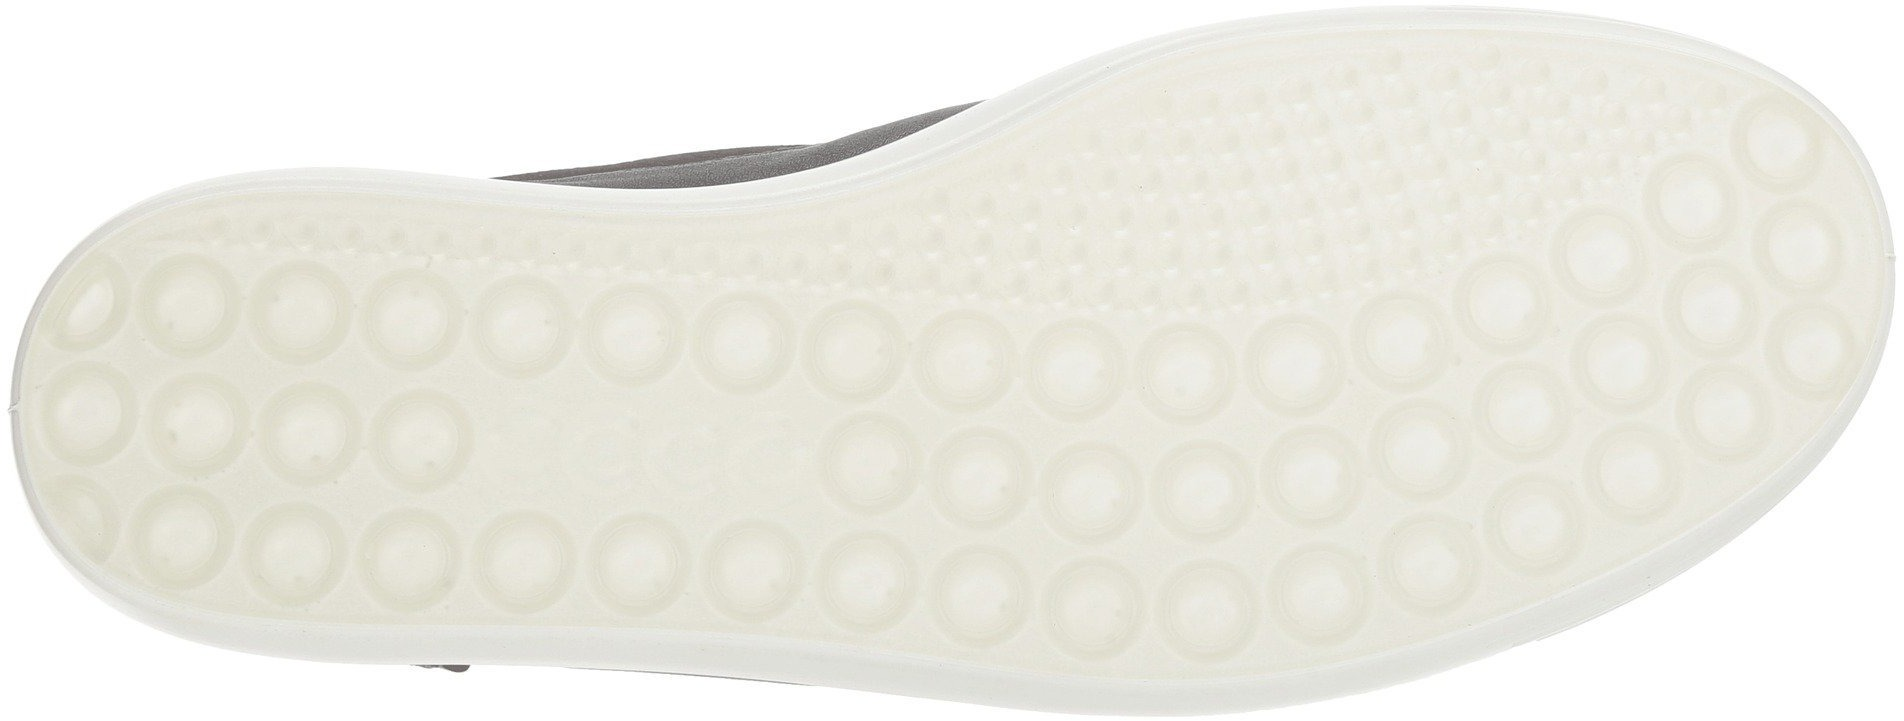circle: (144, 262, 472, 575), (877, 337, 1194, 640), (1319, 301, 1623, 580), (1630, 174, 1868, 394), (1147, 107, 1376, 295), (476, 254, 679, 421), (1402, 59, 1579, 225), (947, 147, 1110, 307), (631, 488, 815, 626)
